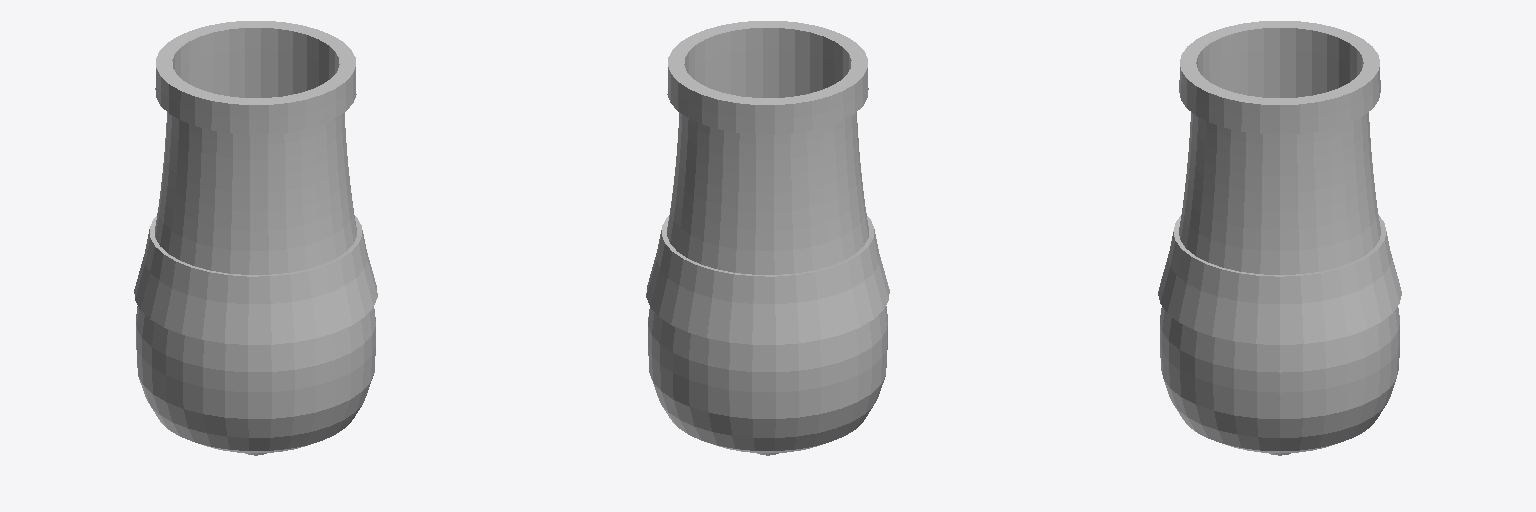
The model's file is cannon_3.obj.
The picture shows the model from 3 angles: view 1: azimuth 30°, elevation 25°; view 2: azimuth 150°, elevation 25°; view 3: azimuth 270°, elevation 25°; orthographic projection.
Visible parts, largest first — view 1: 炮管.003_柱体.009; view 2: 炮管.003_柱体.009; view 3: 炮管.003_柱体.009.
Boxes of the visible parts, x1,y1,x2,y2 form: 炮管.003_柱体.009: [134, 21, 377, 455]; 炮管.003_柱体.009: [646, 21, 889, 455]; 炮管.003_柱体.009: [1158, 21, 1401, 455].
Bounding box in the file's own units: 0.8755 × 1.53 × 0.8755.